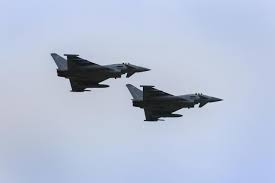plane: (50, 53, 151, 92), (125, 83, 221, 120)
